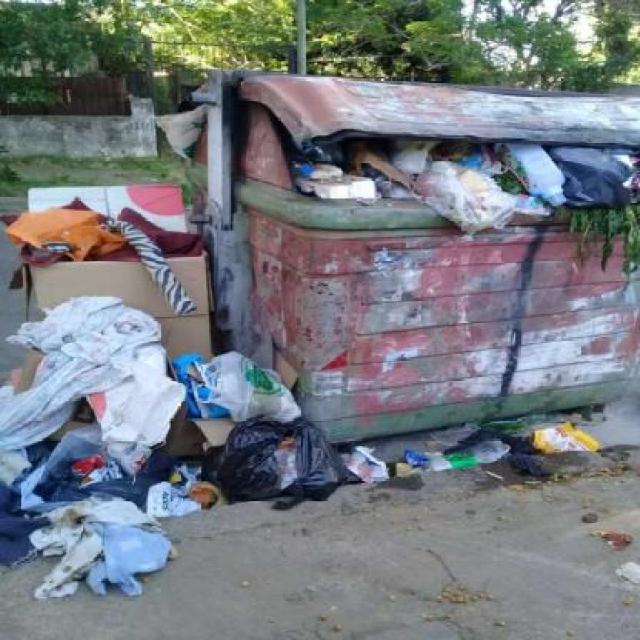garbage: (2, 182, 256, 626), (259, 368, 640, 506), (289, 121, 640, 266), (601, 526, 640, 603)
